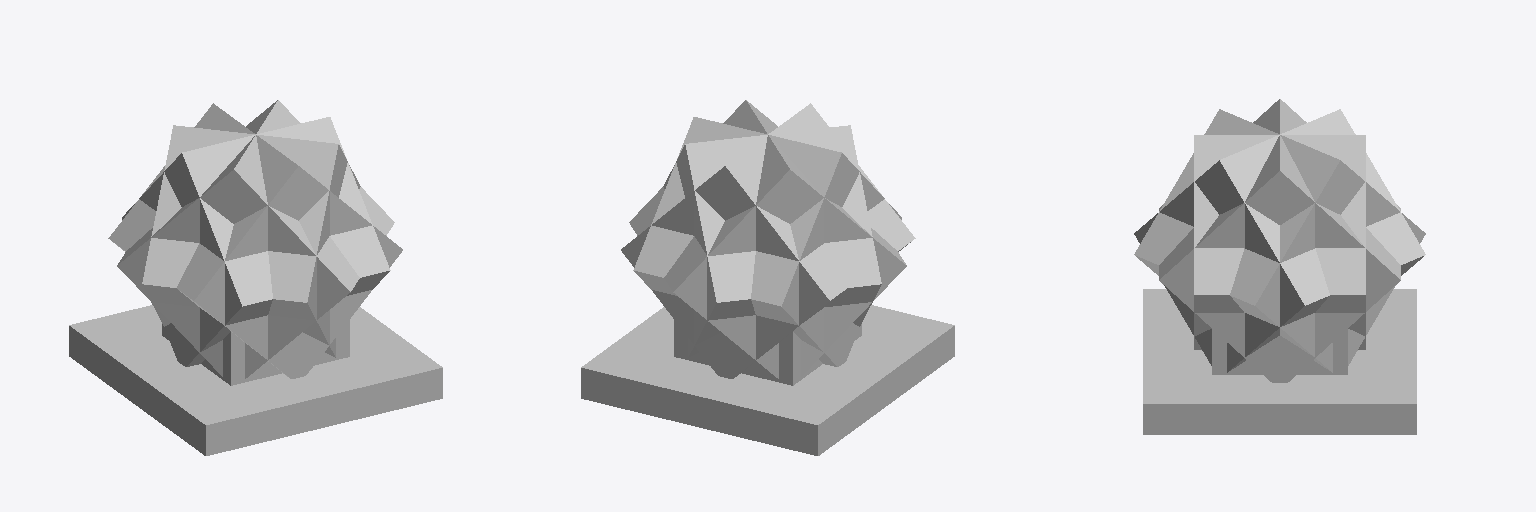
Rendered from heart.obj.
3 renders of one model, left to right at view 1: azimuth 30°, elevation 25°; view 2: azimuth 150°, elevation 25°; view 3: azimuth 270°, elevation 25°, orthographic.
Visible parts, largest first — view 1: cube.004, stand; view 2: cube.004, stand; view 3: cube.004, stand.
Boxes of the visible parts, <box> form: cube.004: <box>108,100,402,378</box>; stand: <box>69,305,442,455</box>; cube.004: <box>621,100,915,378</box>; stand: <box>581,305,954,455</box>; cube.004: <box>1134,99,1425,382</box>; stand: <box>1143,289,1416,434</box>.
Bounding box in the file's own units: 1.07 × 0.9786 × 1.07.